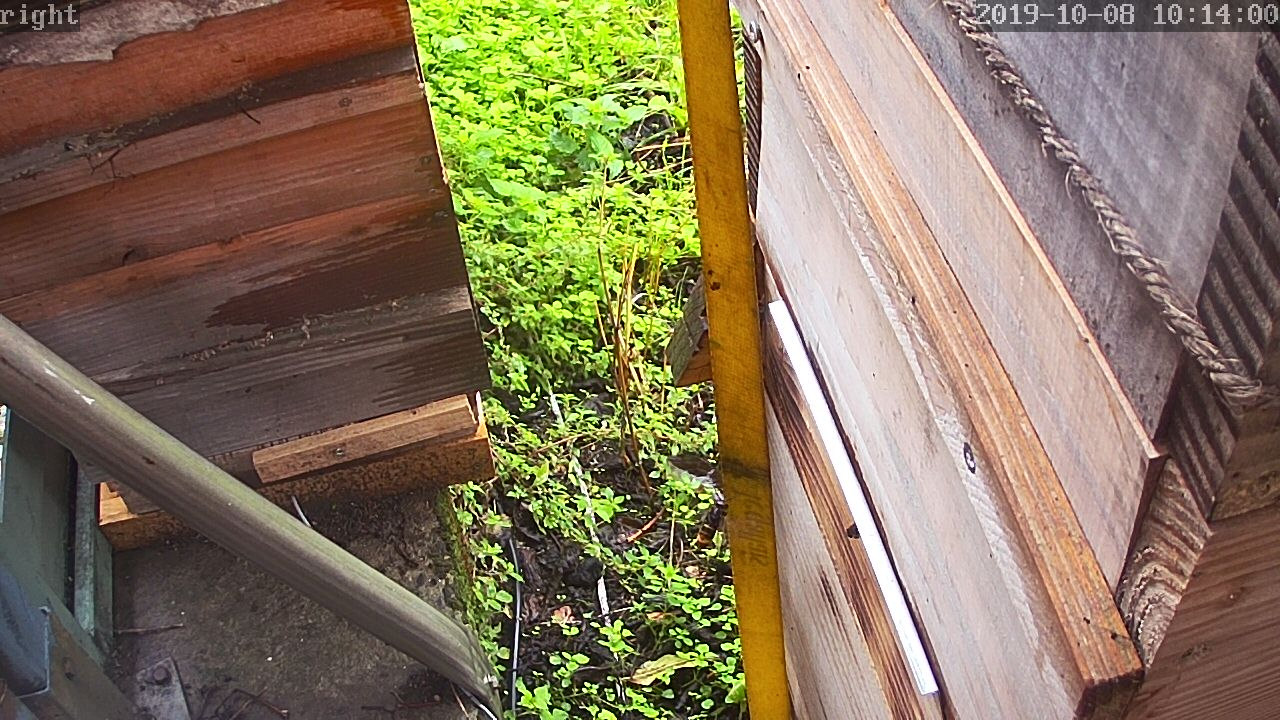bee: (829, 505, 857, 538)
hornet: (693, 484, 730, 553), (705, 523, 734, 588)
